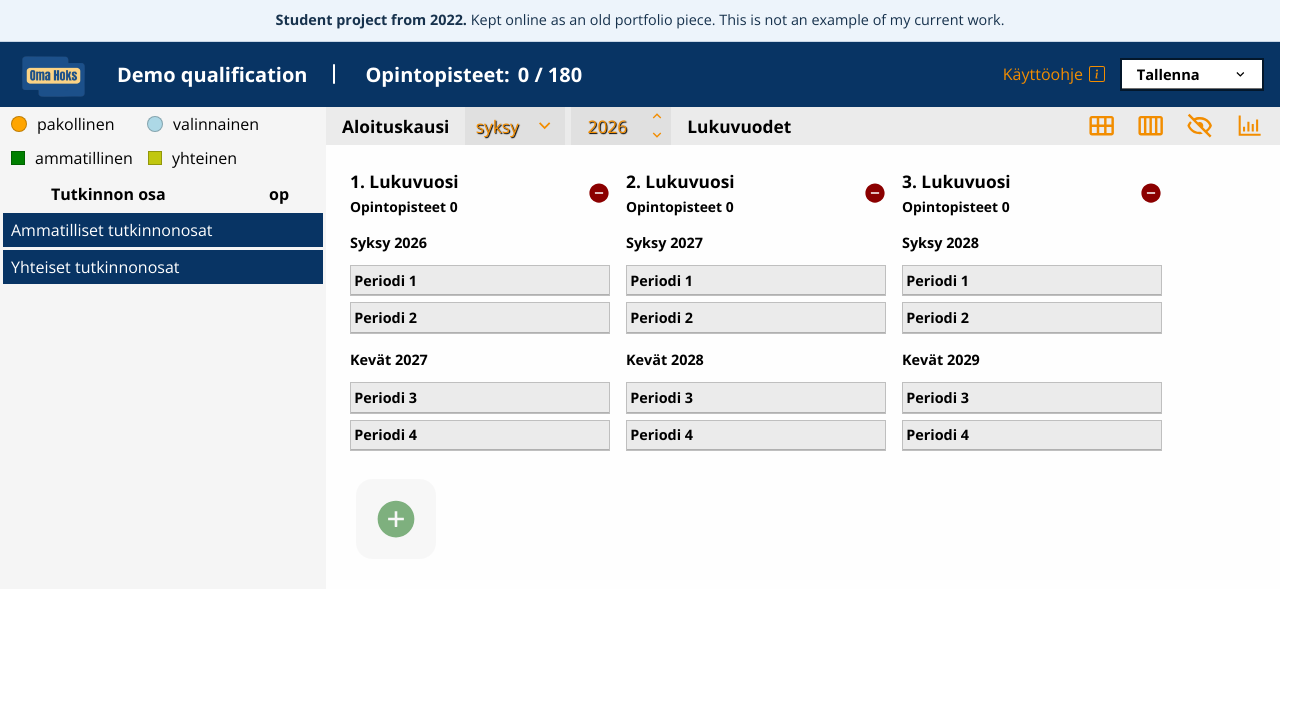
Test: closes target tracking with its close button or the Escape key
Expected: the heading "Demo qualification" is shown, [117,61,308,88]
Click the button named "tavoiteseuranta": [1249, 126] box [1235,111,1264,140]
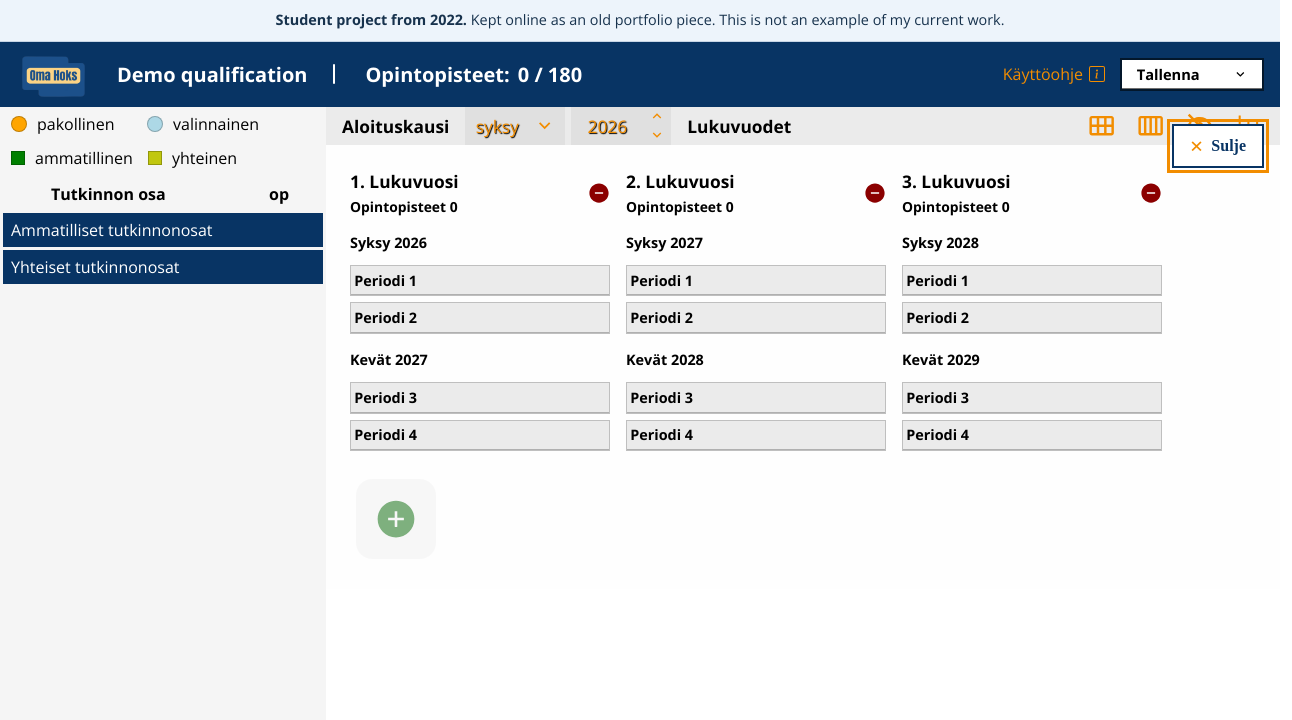
Expected: the button with aria-label "sulje tavoiteseuranta" is shown
Click the button with aria-label "sulje tavoiteseuranta": [1218, 146] box [1172,124,1264,168]
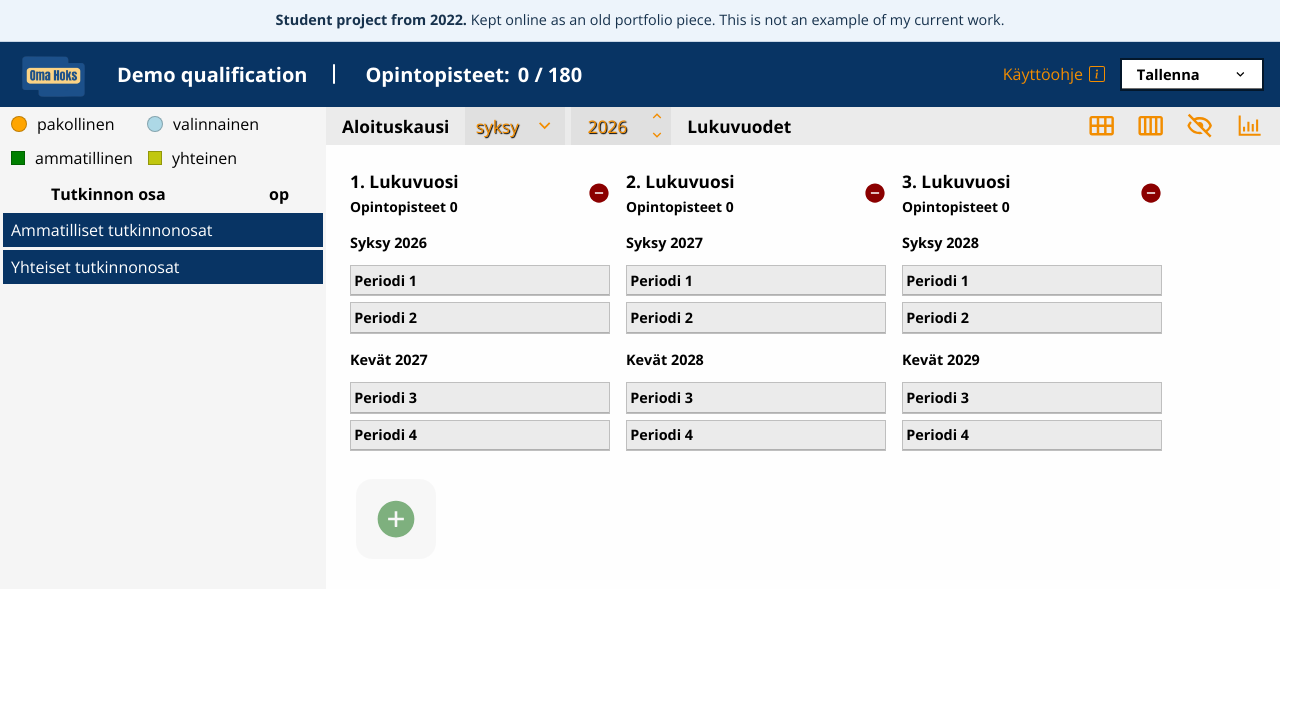
Click the button named "tavoiteseuranta": [1249, 126] box [1235,111,1264,140]
(page scrolled)
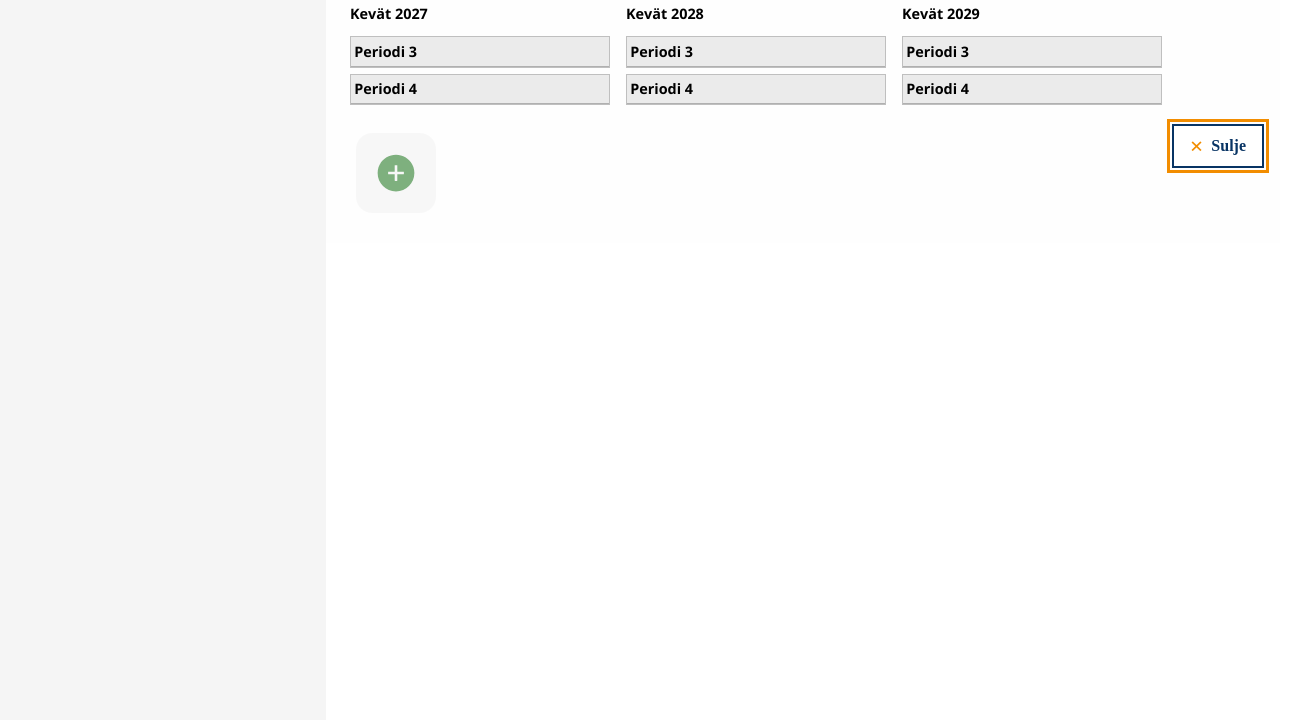
Press Escape
(page scrolled)
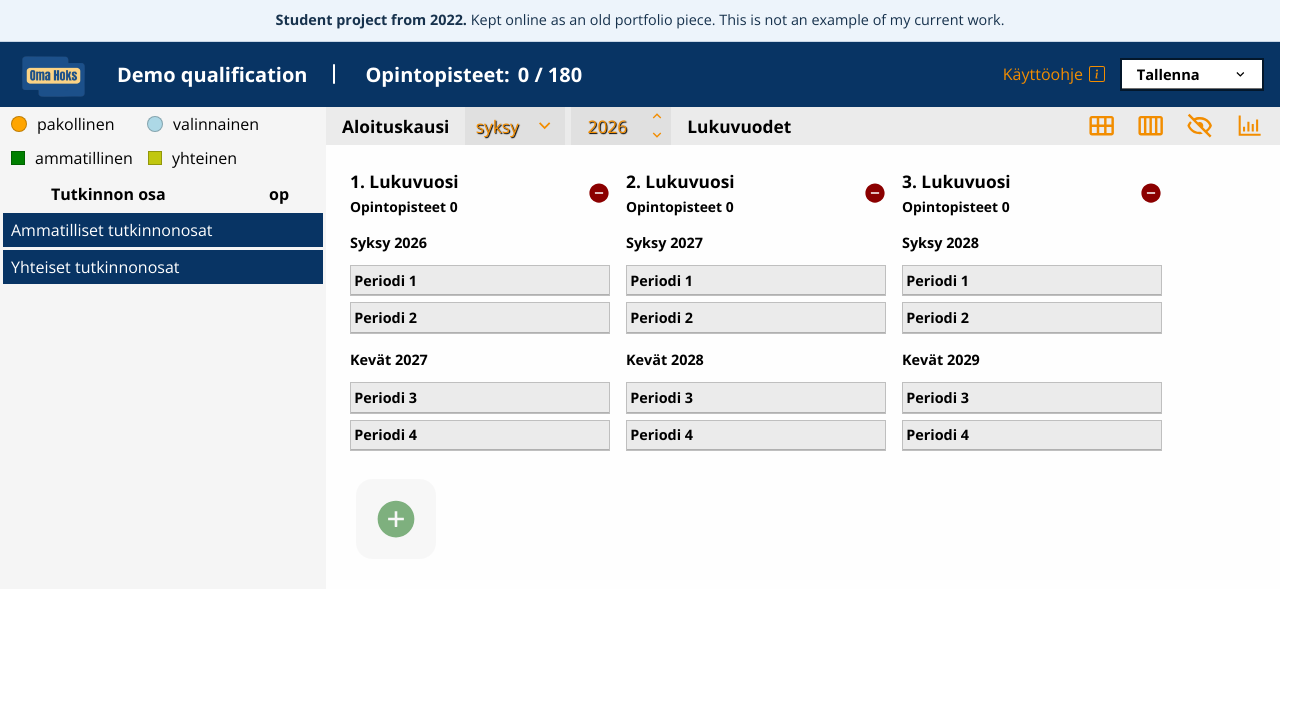
Expected: the drawing with id "Tavoite-seuranta" is gone
